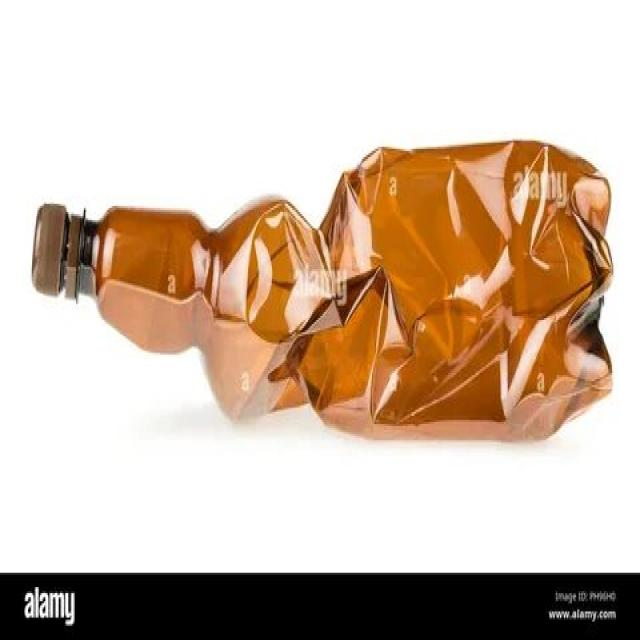brown: (83, 137, 614, 446)
